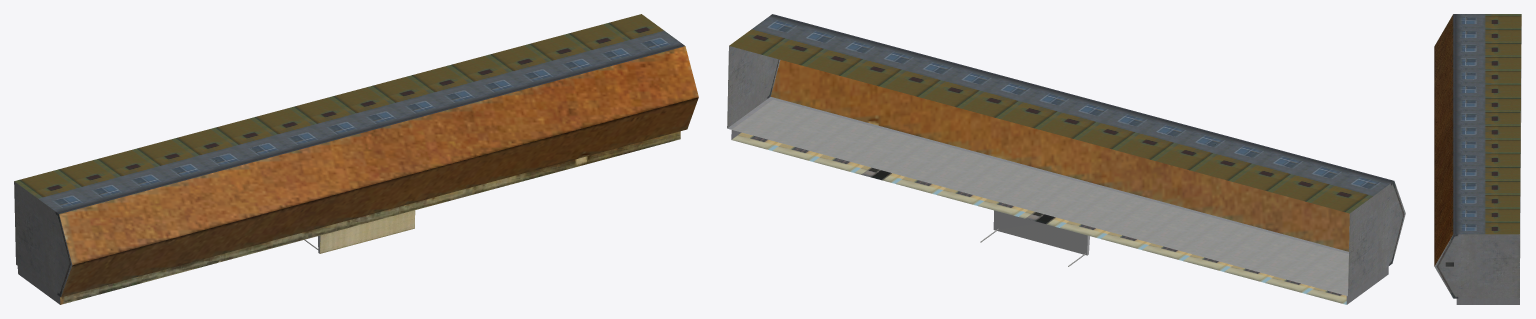
The picture shows the model from 3 angles, left to right: view 1: azimuth 30°, elevation 25°; view 2: azimuth 150°, elevation 25°; view 3: azimuth 270°, elevation 25°; orthographic projection. The views are drawn at different scales.
Visible parts, largest first — view 1: Group_MatrixTransform_i96030_Geometry_6, Group_MatrixTransform_i96030_Geometry_1, Group_MatrixTransform_i96030_Geometry_5, Group_MatrixTransform_i96030_Geometry_2, Group_MatrixTransform_i96030_Geometry_4; view 2: Group_MatrixTransform_i96030_Geometry_1, Group_MatrixTransform_i96030_Geometry_9, Group_MatrixTransform_i96030_Geometry_6, Group_MatrixTransform_i96030_Geometry_2, Group_MatrixTransform_i96030_Geometry_8, Group_MatrixTransform_i96030_Geometry_10, Group_MatrixTransform_i96030_Geometry_11, Group_MatrixTransform_i96030_Geometry_7; view 3: Group_MatrixTransform_i96030_Geometry_1, Group_MatrixTransform_i96030_Geometry_2, Group_MatrixTransform_i96030_Geometry_6, Group_MatrixTransform_i96030_Geometry_10, Group_MatrixTransform_i96030_Geometry_9.
Boxes of the visible parts, x1,y1,x2,y2 form: Group_MatrixTransform_i96030_Geometry_6: [59, 46, 698, 297]; Group_MatrixTransform_i96030_Geometry_1: [14, 14, 684, 213]; Group_MatrixTransform_i96030_Geometry_5: [60, 131, 680, 304]; Group_MatrixTransform_i96030_Geometry_2: [14, 181, 72, 297]; Group_MatrixTransform_i96030_Geometry_4: [320, 210, 415, 253]; Group_MatrixTransform_i96030_Geometry_1: [729, 14, 1393, 213]; Group_MatrixTransform_i96030_Geometry_9: [732, 99, 1348, 295]; Group_MatrixTransform_i96030_Geometry_6: [770, 60, 1349, 251]; Group_MatrixTransform_i96030_Geometry_2: [727, 46, 1405, 295]; Group_MatrixTransform_i96030_Geometry_8: [732, 132, 1346, 304]; Group_MatrixTransform_i96030_Geometry_10: [727, 97, 1388, 304]; Group_MatrixTransform_i96030_Geometry_11: [993, 210, 1089, 255]; Group_MatrixTransform_i96030_Geometry_7: [855, 165, 1068, 227]; Group_MatrixTransform_i96030_Geometry_1: [1453, 14, 1521, 234]; Group_MatrixTransform_i96030_Geometry_2: [1434, 26, 1521, 298]; Group_MatrixTransform_i96030_Geometry_6: [1434, 14, 1453, 266]; Group_MatrixTransform_i96030_Geometry_10: [1456, 167, 1520, 304]; Group_MatrixTransform_i96030_Geometry_9: [1520, 79, 1521, 256].
Bounding box in the file's own units: 67.81 × 14.6 × 10.74.
Materials: 12 (12 with a texture image).
